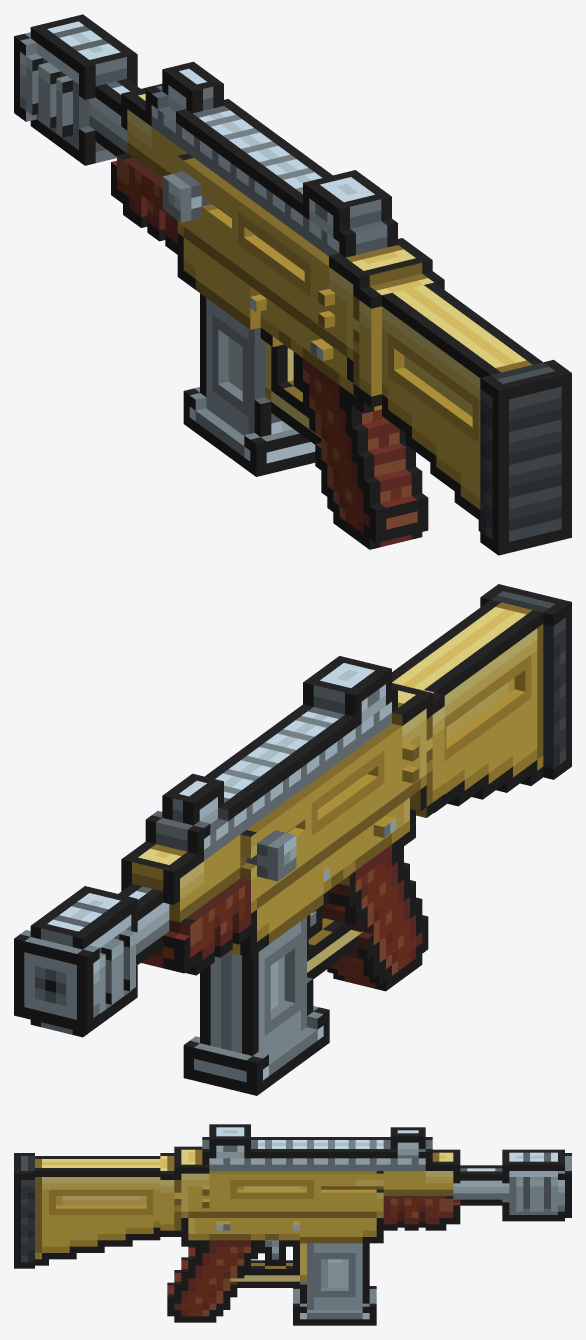
The model's file is Rifle_v2.glb.
3 renders of one model, top to bottom at view 1: azimuth 30°, elevation 25°; view 2: azimuth 150°, elevation 25°; view 3: azimuth 270°, elevation 25°, orthographic. The views are drawn at different scales.
Visible parts, largest first — view 1: Body, Magazine, Slide; view 2: Body, Magazine, Slide; view 3: Body, Magazine, Trigger.
Part boxes in pixels (box(x1,y1,x2,y2)): Body: box(14, 14, 571, 555); Magazine: box(183, 293, 315, 476); Slide: box(162, 171, 212, 222); Body: box(14, 584, 571, 1037); Magazine: box(183, 917, 329, 1095); Slide: box(246, 830, 296, 881); Body: box(14, 1124, 571, 1322); Magazine: box(293, 1243, 376, 1325); Trigger: box(258, 1240, 285, 1265).
Bounding box in the file's own units: 0.5311 × 1.54 × 4.25.
Materials: 1 (1 with a texture image).
